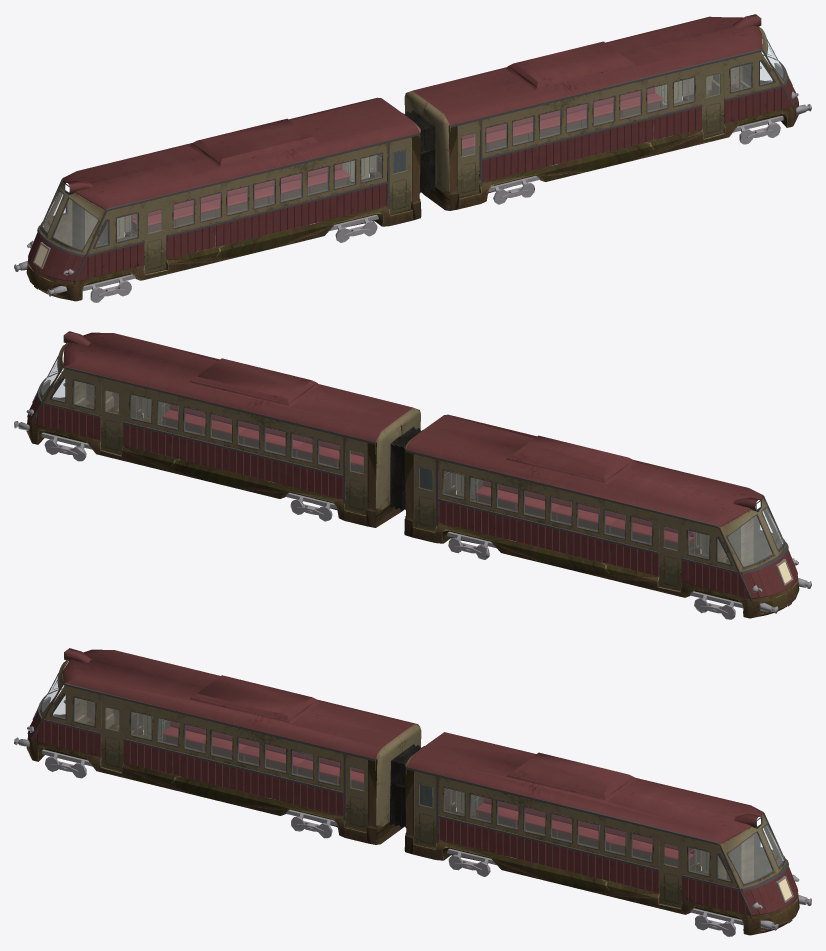
File: trem.glb
The picture shows the model from 3 angles, top to bottom: view 1: azimuth 30°, elevation 25°; view 2: azimuth 150°, elevation 25°; view 3: azimuth 330°, elevation 25°; orthographic projection.
Parts seen in each view (by area): view 1: polySurface6560; view 2: polySurface6560; view 3: polySurface6560.
Part boxes in pixels (x1,y1,x2,y2): polySurface6560: (14, 14, 811, 302); polySurface6560: (14, 331, 811, 619); polySurface6560: (14, 648, 811, 936).
Bounding box in the file's own units: 12.38 × 1.65 × 1.38.
Materials: 9 (6 with a texture image).
